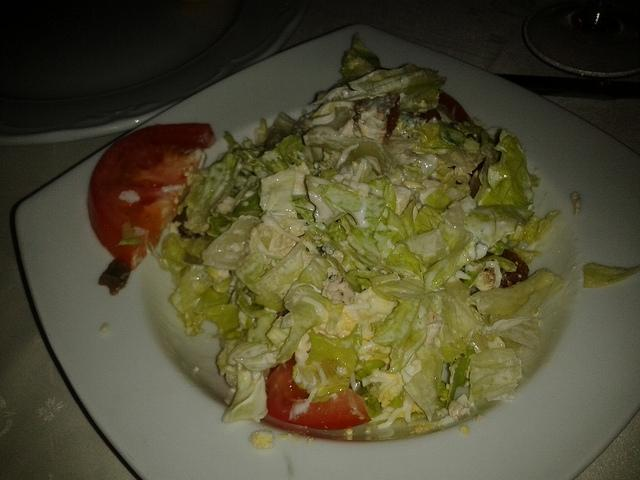lettuce: (371, 280, 487, 380), (463, 128, 541, 247), (310, 63, 447, 113), (169, 264, 242, 349), (277, 254, 333, 358), (235, 241, 315, 312), (292, 324, 363, 402), (306, 174, 386, 236), (185, 153, 244, 234), (303, 126, 399, 172), (468, 268, 556, 315), (422, 222, 473, 293), (202, 214, 264, 270), (468, 348, 522, 404), (162, 233, 217, 285), (222, 361, 268, 423), (338, 31, 382, 86), (214, 168, 255, 216), (383, 114, 428, 156), (246, 223, 298, 259), (398, 228, 451, 263), (508, 210, 560, 245), (260, 166, 296, 212), (582, 262, 640, 288), (450, 348, 476, 404), (496, 317, 541, 349), (216, 331, 248, 375), (344, 227, 382, 264), (386, 200, 416, 245), (329, 256, 362, 293), (438, 147, 482, 174), (408, 122, 452, 149), (320, 235, 356, 267), (374, 260, 424, 283), (424, 176, 456, 210), (326, 106, 359, 138), (233, 350, 281, 372), (414, 204, 446, 235), (438, 120, 466, 153), (361, 368, 402, 390), (266, 316, 291, 352), (371, 278, 425, 294), (354, 357, 387, 382), (231, 192, 262, 218), (262, 147, 288, 174), (292, 196, 316, 225), (383, 176, 398, 213), (286, 138, 305, 167), (236, 311, 260, 332), (392, 150, 417, 170), (256, 241, 284, 258), (386, 389, 406, 410), (252, 162, 275, 180), (458, 197, 476, 217), (446, 270, 470, 284), (213, 276, 233, 292), (284, 218, 308, 230), (482, 314, 491, 325), (379, 364, 390, 372)
tomato: (86, 123, 217, 268), (266, 353, 372, 430)
